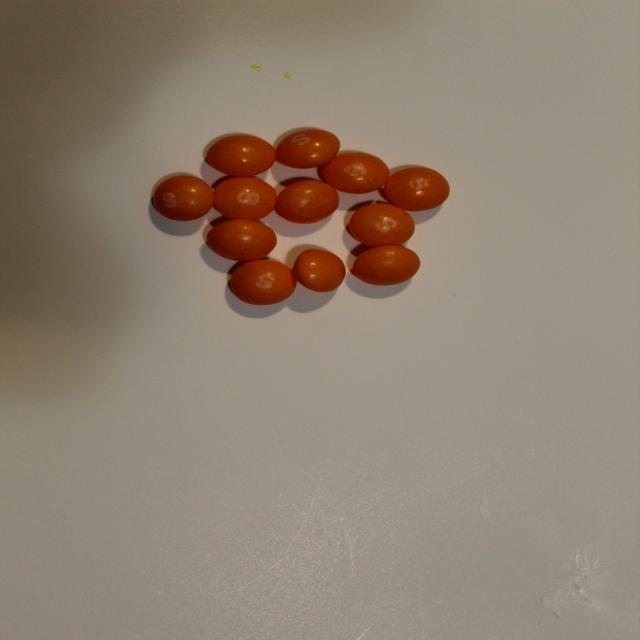smartie: (206, 218, 276, 261), (229, 260, 295, 305), (384, 166, 450, 211), (205, 134, 275, 176), (151, 175, 213, 221), (349, 203, 415, 246), (351, 245, 421, 285), (321, 152, 389, 193), (275, 180, 339, 223), (212, 177, 276, 219), (276, 128, 339, 168), (291, 248, 345, 292)
